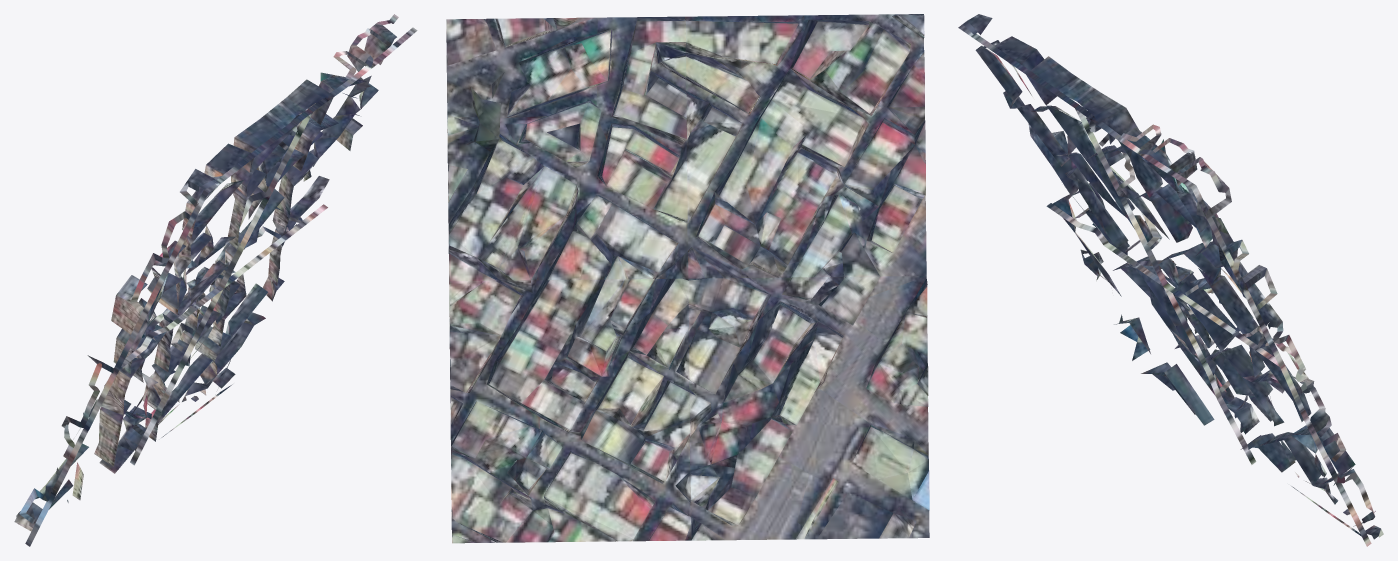
3 renders of one model, left to right at view 1: azimuth 30°, elevation 25°; view 2: azimuth 150°, elevation 25°; view 3: azimuth 270°, elevation 25°, orthographic. The views are drawn at different scales.
Size of the model in its own units: 308 by 286 by 264.
1 material, 1 textured.
